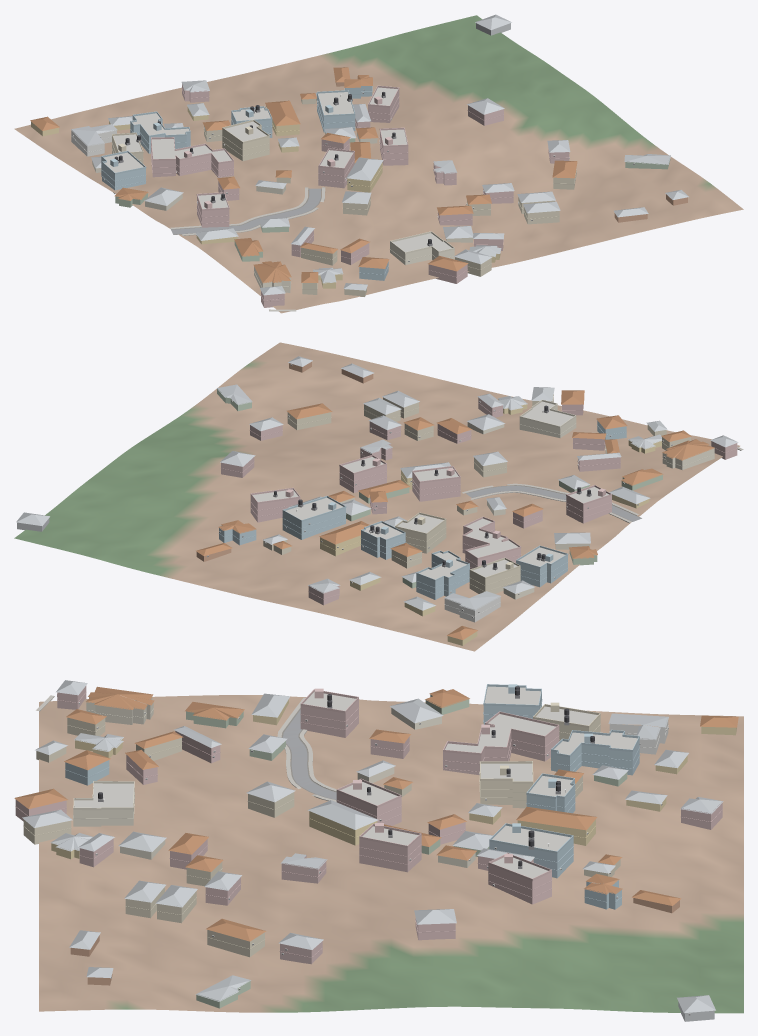
3 renders of one model, top to bottom at view 1: azimuth 30°, elevation 25°; view 2: azimuth 150°, elevation 25°; view 3: azimuth 270°, elevation 25°, orthographic. The views are drawn at different scales.
Visible parts, largest first — view 1: Terrain-col, Buildings-col, Details, Roads-col, Sidewalks-col; view 2: Terrain-col, Buildings-col, Details, Roads-col, Sidewalks-col; view 3: Terrain-col, Buildings-col, Details, Roads-col, Sidewalks-col.
Part boxes in pixels (bbox=[...]): Terrain-col: bbox=[14, 15, 743, 313]; Buildings-col: bbox=[30, 14, 688, 307]; Details: bbox=[71, 85, 634, 301]; Roads-col: bbox=[171, 188, 321, 234]; Sidewalks-col: bbox=[170, 187, 325, 311]; Terrain-col: bbox=[14, 342, 739, 651]; Buildings-col: bbox=[16, 356, 738, 645]; Details: bbox=[207, 364, 737, 618]; Roads-col: bbox=[466, 485, 641, 521]; Sidewalks-col: bbox=[462, 446, 743, 523]; Terrain-col: bbox=[39, 695, 743, 1013]; Buildings-col: bbox=[14, 680, 738, 1021]; Details: bbox=[15, 684, 722, 1015]; Roads-col: bbox=[281, 708, 336, 799]; Sidewalks-col: bbox=[36, 695, 336, 801].
Size of the model in its own units: 269 by 20.2 by 265.
